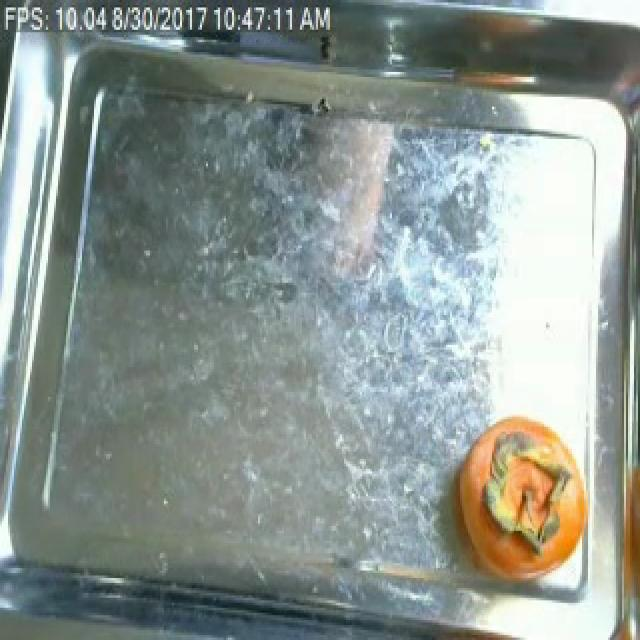Fruit: (444, 407, 594, 595)
